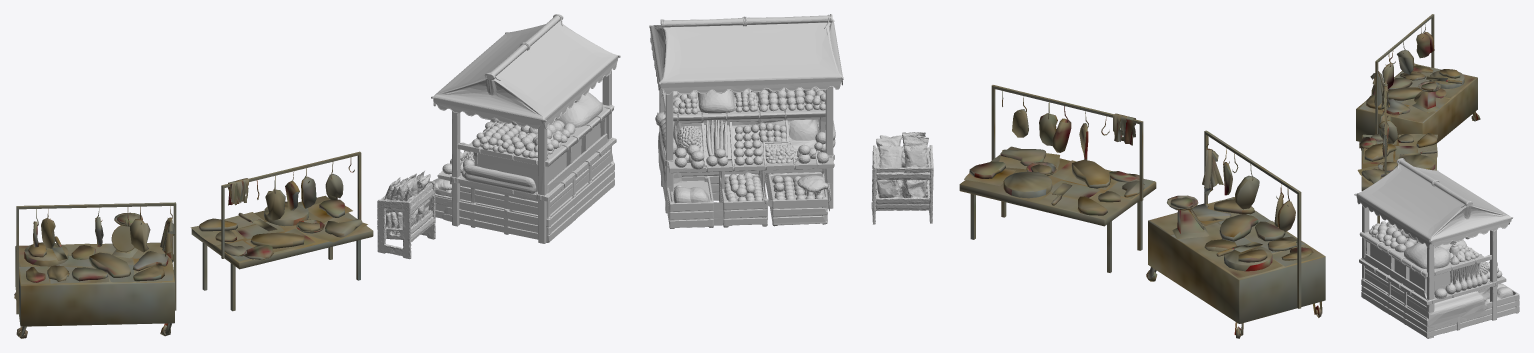
File: 07_Tercer_Cuarto.fbx
3 views of the same model, side by side, from view 1: azimuth 30°, elevation 25°; view 2: azimuth 150°, elevation 25°; view 3: azimuth 270°, elevation 25° (orthographic). The views are drawn at different scales.
Parts seen in each view (by area): view 1: material, Cube.005, Cube.007, Mesh_0.001; view 2: material, Cube.005, Cube.007, Mesh_0.001; view 3: material, Cube.005, Cube.007.
Part boxes in pixels (x1,y1,x2,y2): material: (431,14,620,243); Cube.005: (14,202,176,338); Cube.007: (190,151,373,311); Mesh_0.001: (377,171,435,259); material: (649,14,843,228); Cube.005: (1146,130,1325,338); Cube.007: (959,85,1156,272); Mesh_0.001: (871,132,933,224); material: (1354,158,1519,338); Cube.005: (1356,14,1480,150); Cube.007: (1357,81,1437,223).
Bounding box in the file's own units: 960 × 241 × 285.
